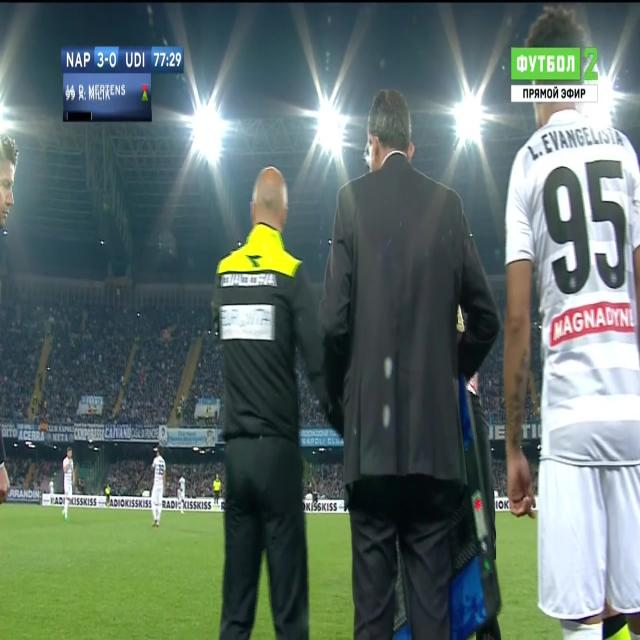Player: (500, 0, 640, 639), (148, 444, 168, 529), (60, 443, 76, 518), (176, 474, 187, 517), (48, 477, 56, 511)
Referee: (210, 469, 223, 514), (104, 482, 112, 511)
